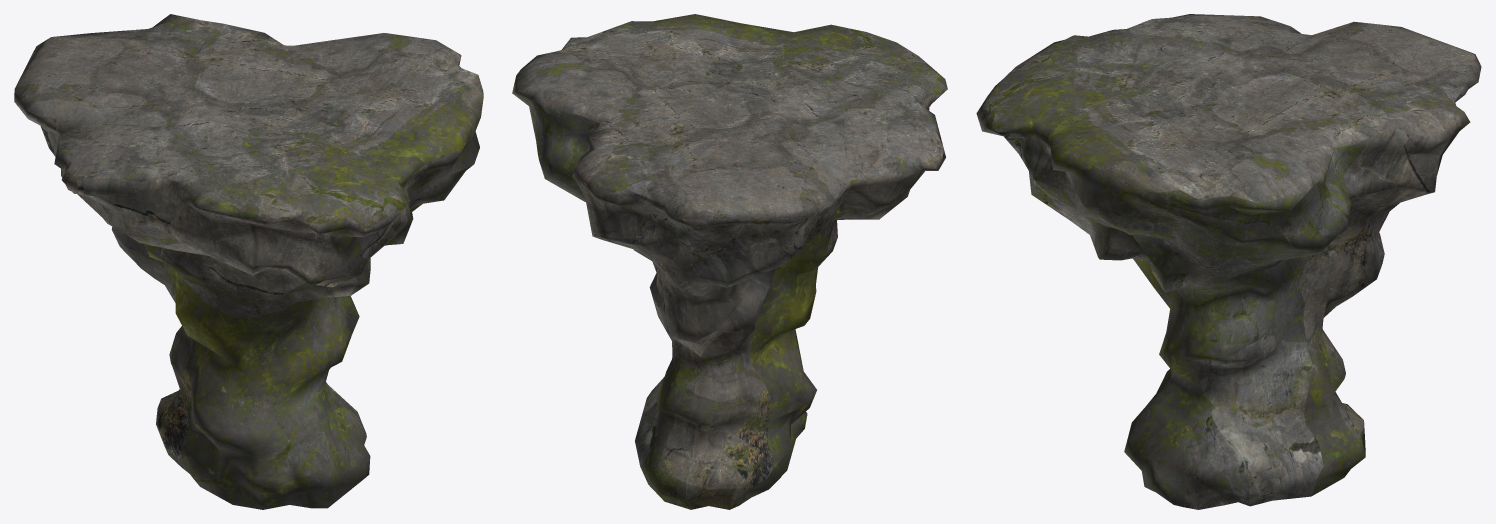
Rendered from Rock11.fbx.
3 renders of one model, left to right at view 1: azimuth 30°, elevation 25°; view 2: azimuth 150°, elevation 25°; view 3: azimuth 270°, elevation 25°, orthographic. The views are drawn at different scales.
Parts seen in each view (by area): view 1: LV_Campagna_MoleCricketsDen_Pillar01_SM_EYE; view 2: LV_Campagna_MoleCricketsDen_Pillar01_SM_EYE; view 3: LV_Campagna_MoleCricketsDen_Pillar01_SM_EYE.
Boxes of the visible parts, bbox=[...] form: LV_Campagna_MoleCricketsDen_Pillar01_SM_EYE: bbox=[14, 14, 483, 509]; LV_Campagna_MoleCricketsDen_Pillar01_SM_EYE: bbox=[512, 14, 947, 509]; LV_Campagna_MoleCricketsDen_Pillar01_SM_EYE: bbox=[976, 14, 1481, 509].
Bounding box in the file's own units: 5.19 × 4.75 × 5.55.
Materials: 1 (1 with a texture image).
